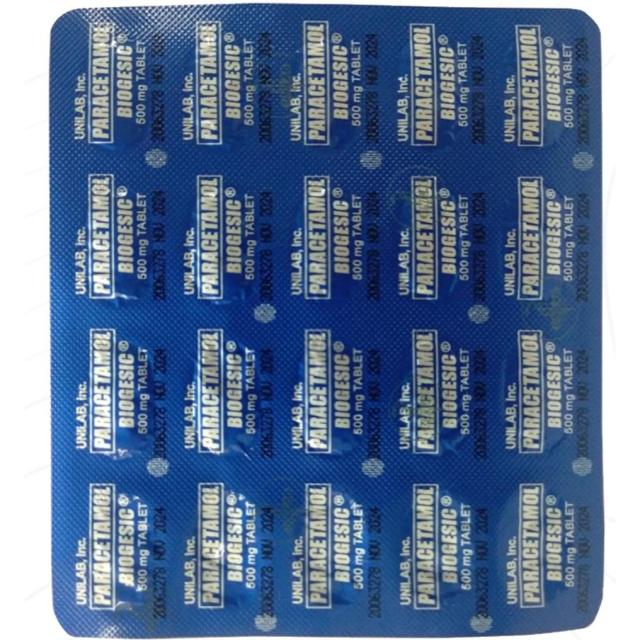blister: (50, 3, 604, 634)
